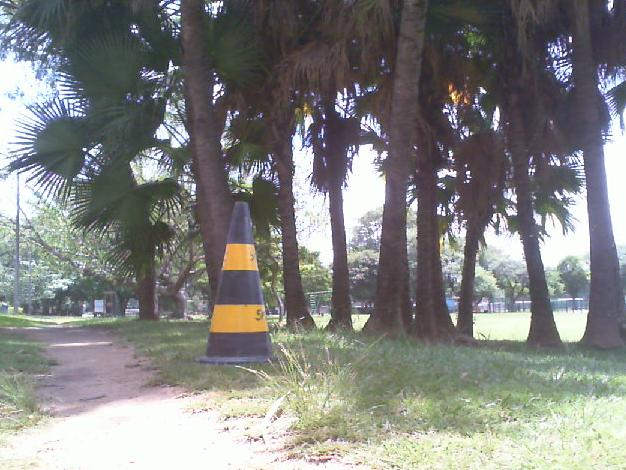0 cone: (195, 202, 287, 365)
